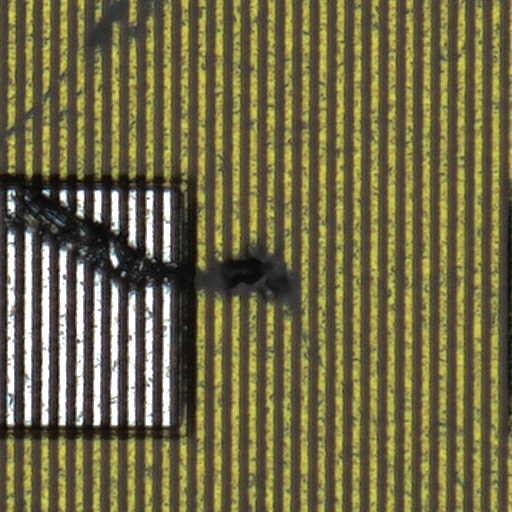SCRATCH: (1, 1, 314, 303)
